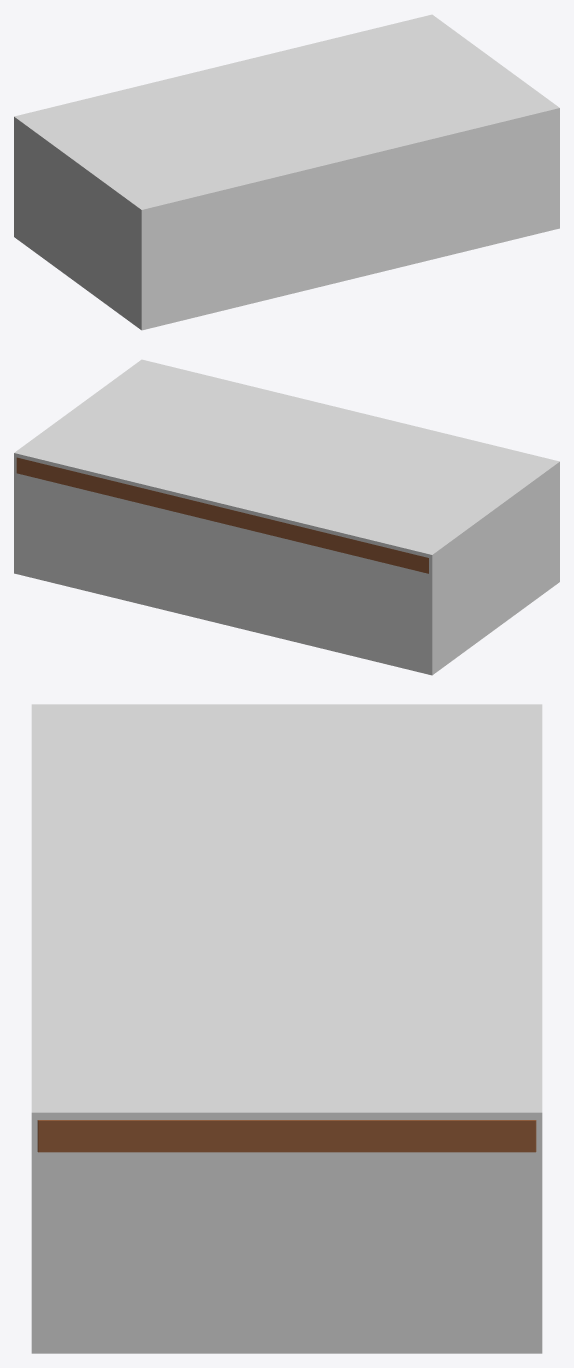
File: table-c.glb
3 views of the same model, one above another, from view 1: azimuth 30°, elevation 25°; view 2: azimuth 150°, elevation 25°; view 3: azimuth 270°, elevation 25° (orthographic). The views are drawn at different scales.
Parts seen in each view (by area): view 1: Table C_col; view 2: Table C_col, Table C; view 3: Table C_col, Table C.
Part boxes in pixels (bbox=[...]): Table C_col: bbox=[14, 14, 559, 330]; Table C_col: bbox=[14, 359, 559, 675]; Table C: bbox=[16, 457, 428, 573]; Table C_col: bbox=[31, 704, 542, 1353]; Table C: bbox=[37, 1120, 536, 1152].
Bounding box in the file's own units: 6.73 × 1.88 × 3.56.
